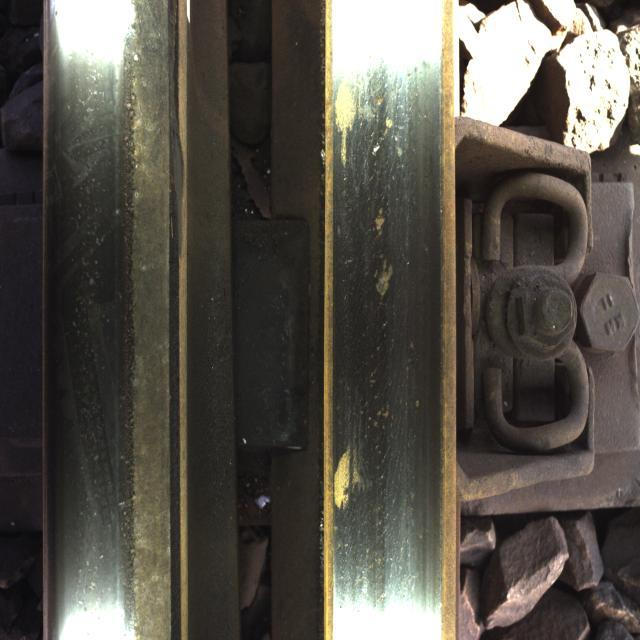normal: (53, 25, 154, 619)
scar: (333, 34, 415, 316)
